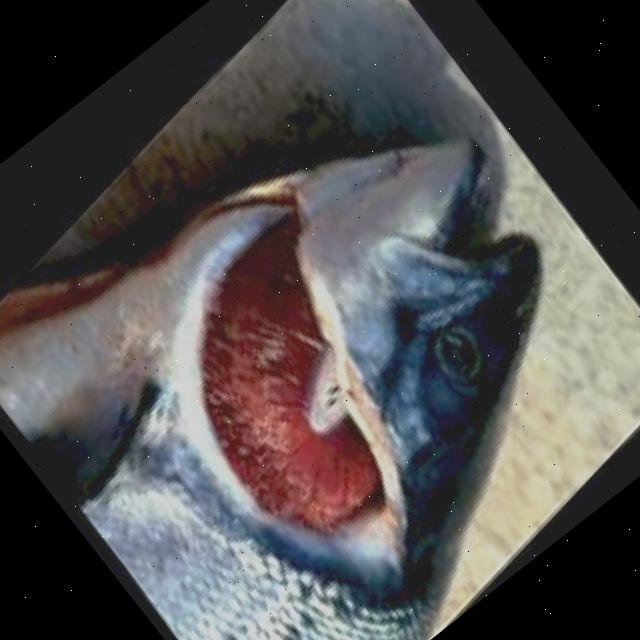Flavobacterium -Bacterial Gill Disease-: (0, 140, 540, 640), (0, 141, 540, 640)
